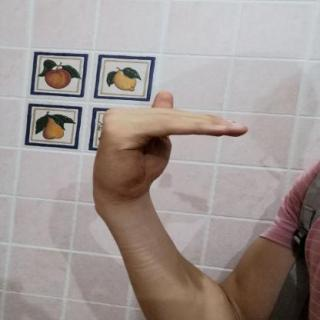KHAA: (80, 81, 268, 217)
